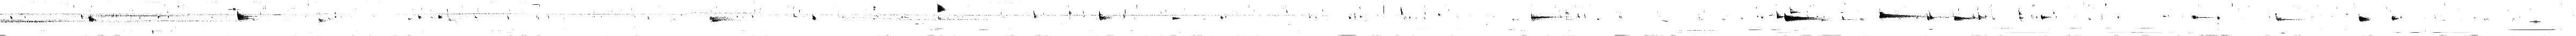meteor: (1879, 11, 1922, 20), (1784, 13, 1820, 21), (1531, 13, 1556, 21), (2275, 13, 2300, 21), (237, 11, 253, 21), (710, 16, 731, 23), (1099, 10, 1112, 20), (936, 3, 946, 13), (1789, 7, 1801, 15), (1955, 16, 1973, 21), (2192, 15, 2210, 20), (2357, 15, 2371, 21), (1776, 11, 1784, 20), (2040, 15, 2052, 20), (1929, 11, 1935, 20), (89, 16, 97, 21), (319, 18, 327, 23), (1033, 10, 1038, 18), (1925, 13, 1930, 21), (812, 15, 816, 21), (2017, 10, 2022, 16), (417, 15, 422, 20), (1978, 13, 1981, 20), (2392, 16, 2399, 20), (439, 15, 444, 18), (2019, 16, 2024, 20), (10, 16, 13, 20)
